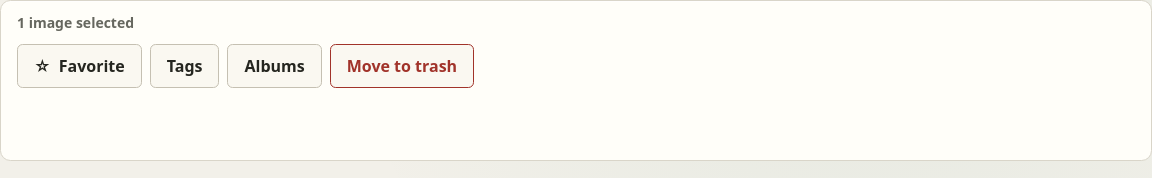
Test: curation actions › favourites the asset it was given with the version the API expects
Click the button "☆ Favorite".
click(79, 66)  # box x1=17 y1=44 x2=142 y2=88
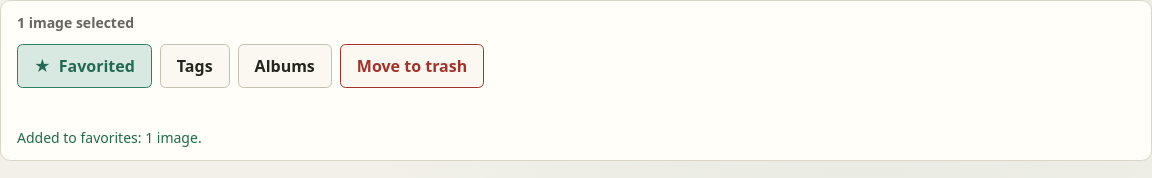
Expected: the message named "Curation result" reads "Added to favorites: 1 image.", x1=17 y1=128 x2=202 y2=147
